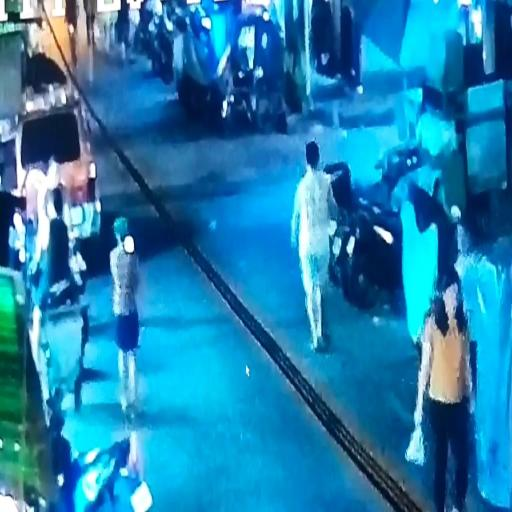Car: (12, 61, 106, 247)
Motor: (318, 122, 432, 298), (162, 4, 262, 128)
